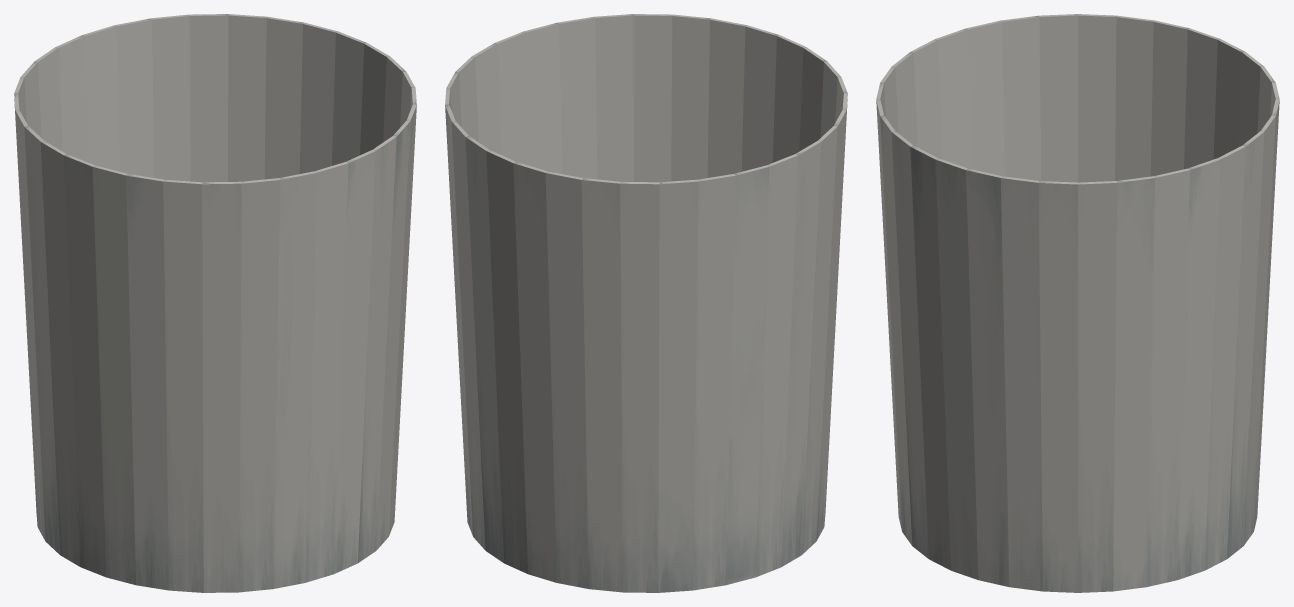
The model's file is Eimer 1.fbx.
3 views of the same model, side by side, from view 1: azimuth 30°, elevation 25°; view 2: azimuth 150°, elevation 25°; view 3: azimuth 270°, elevation 25° (orthographic).
Visible parts, largest first — view 1: Eimer; view 2: Eimer; view 3: Eimer.
Boxes of the visible parts, left/top/right/bottom form: Eimer: left=14, top=14, right=416, bottom=592; Eimer: left=445, top=14, right=847, bottom=592; Eimer: left=876, top=14, right=1279, bottom=592.
Bounding box in the file's own units: 70 × 80.04 × 70.
